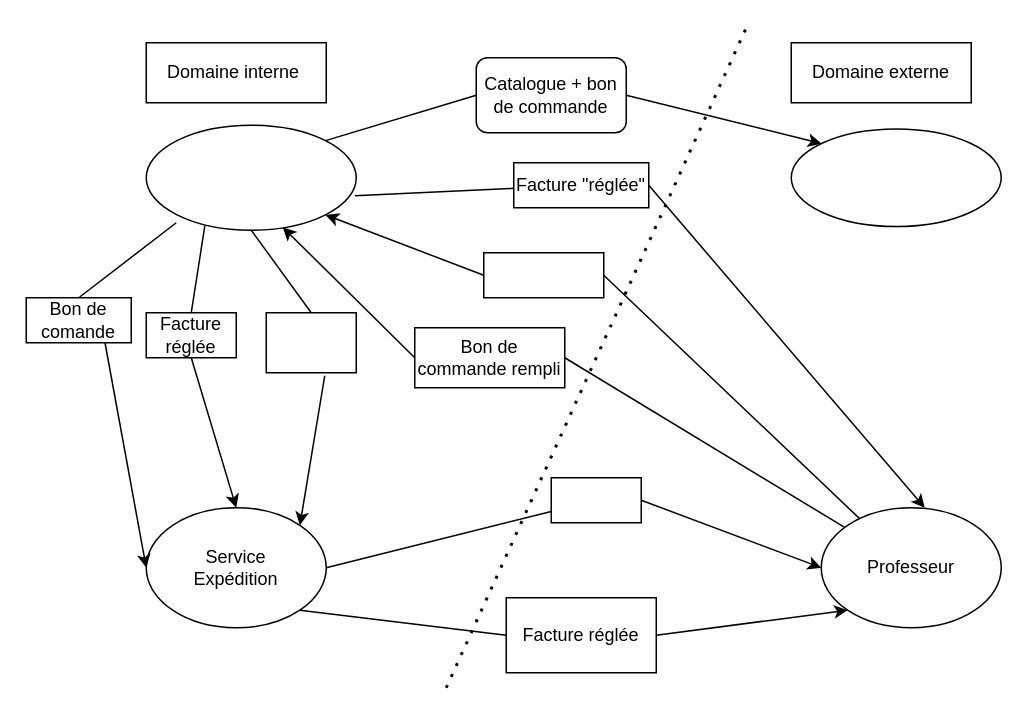
Image size: 1028x716. Some labels were removed from this diagram. The shapes that lost their labels are listed below. From the top down, each one's centre as x and y in pixels, then its label:
the point at 250,177: Secrétariat
the point at 895,177: Etablissement
the point at 543,274: Chéque
the point at 310,342: Facture à régler
the point at 595,499: Colis
